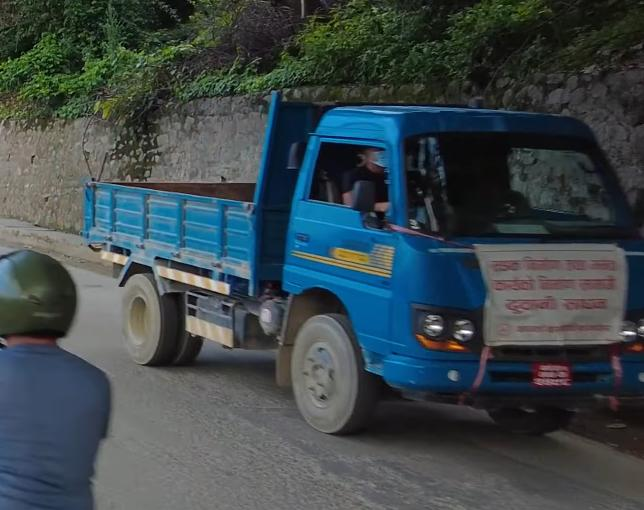mini_truck: (72, 77, 643, 450)
